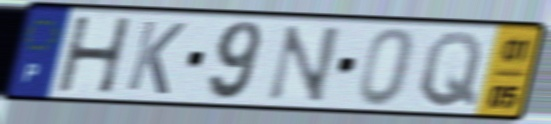0: (354, 25, 418, 109)
9: (204, 19, 270, 103)
H: (55, 15, 136, 96)
K: (122, 17, 190, 98)
N: (262, 23, 345, 105)
Q: (416, 29, 486, 110)
